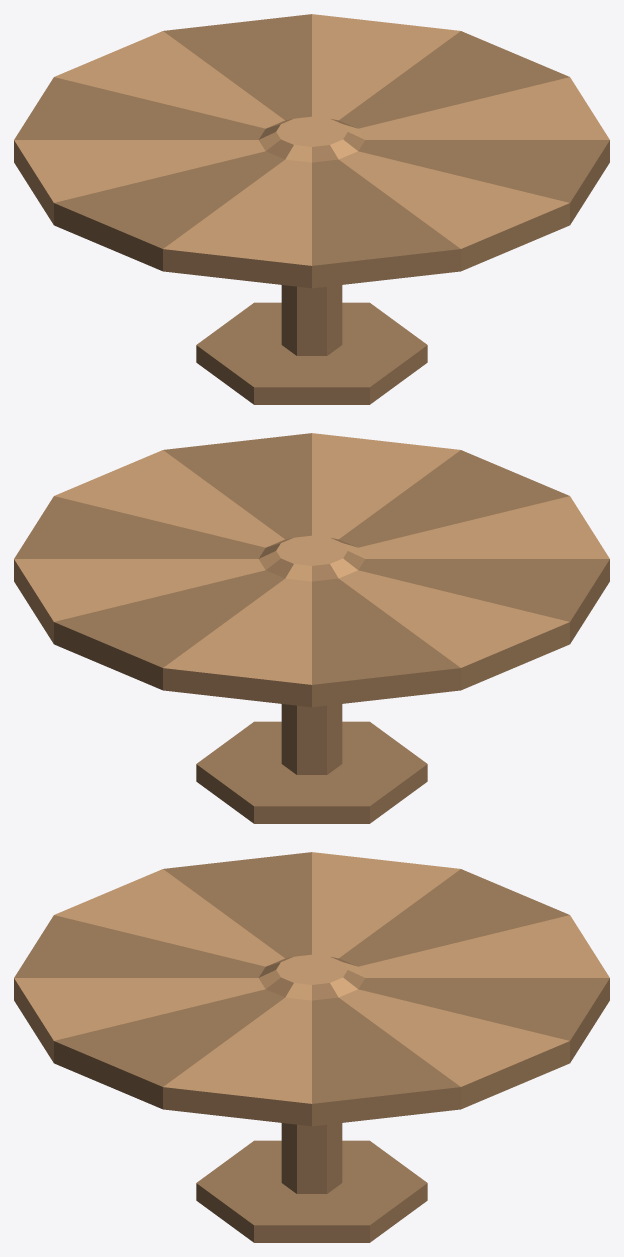
Rendered from circleTable.fbx.
The picture shows the model from 3 angles, top to bottom: view 1: azimuth 30°, elevation 25°; view 2: azimuth 150°, elevation 25°; view 3: azimuth 270°, elevation 25°; orthographic projection.
Visible parts, largest first — view 1: circleTable; view 2: circleTable; view 3: circleTable.
Boxes of the visible parts, x1,y1,x2,y2 form: circleTable: (14, 14, 609, 404); circleTable: (14, 433, 609, 823); circleTable: (14, 852, 609, 1242).
Bounding box in the file's own units: 184 × 78.79 × 184.
